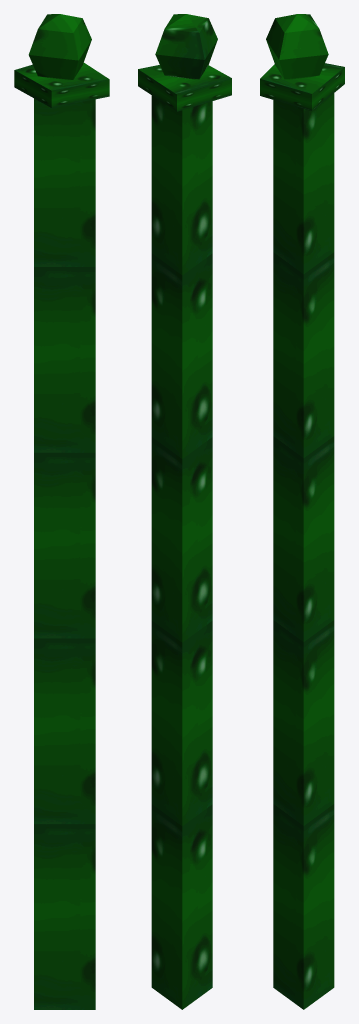
Rendered from ZiersäuleRundHoch [Grün]_250.glb.
3 renders of one model, left to right at view 1: azimuth 30°, elevation 25°; view 2: azimuth 210°, elevation 25°; view 3: azimuth 330°, elevation 25°, orthographic.
Parts seen in each view (by area): view 1: pCylinderShape29, pSphereShape50, pPlaneShape4, pPlaneShape5, pPlaneShape1; view 2: pCylinderShape29, pSphereShape50, pPlaneShape5, pPlaneShape2, pPlaneShape3; view 3: pCylinderShape29, pSphereShape50, pPlaneShape5, pPlaneShape4, pPlaneShape3.
Boxes of the visible parts, x1,y1,x2,y2 form: pCylinderShape29: [34, 98, 95, 1009]; pSphereShape50: [28, 14, 91, 80]; pPlaneShape4: [51, 79, 109, 107]; pPlaneShape5: [15, 62, 108, 90]; pPlaneShape1: [14, 70, 51, 107]; pCylinderShape29: [151, 95, 212, 1009]; pSphereShape50: [155, 14, 217, 79]; pPlaneShape5: [138, 65, 231, 94]; pPlaneShape2: [177, 78, 231, 111]; pPlaneShape3: [138, 69, 176, 111]; pCylinderShape29: [273, 93, 334, 1009]; pSphereShape50: [266, 14, 328, 79]; pPlaneShape5: [260, 63, 344, 93]; pPlaneShape4: [260, 79, 311, 110]; pPlaneShape3: [312, 67, 344, 110].
Bounding box in the file's own units: 0.0933 × 1.39 × 0.0952.
7 materials, 7 textured.
